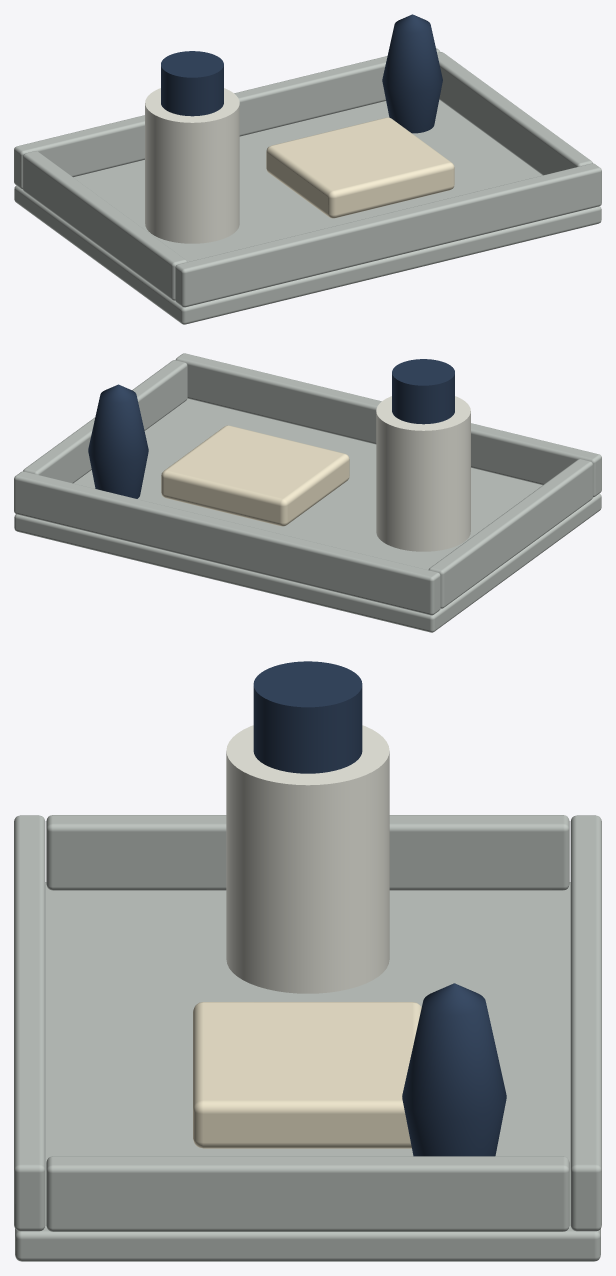
Rendered from planetarium-and-optical-observatory-lens-cleaning-stat-ae8f6229__31864.glb.
The picture shows the model from 3 angles, top to bottom: view 1: azimuth 30°, elevation 25°; view 2: azimuth 150°, elevation 25°; view 3: azimuth 270°, elevation 25°; orthographic projection. The views are drawn at different scales.
Visible parts, largest first — view 1: lens-cleaning-station; view 2: lens-cleaning-station; view 3: lens-cleaning-station.
Part boxes in pixels (left/top/right/bottom): lens-cleaning-station: left=14, top=14, right=601, bottom=324; lens-cleaning-station: left=14, top=353, right=601, bottom=632; lens-cleaning-station: left=14, top=661, right=601, bottom=1261.
Bounding box in the file's own units: 0.401 × 0.161 × 0.281.
